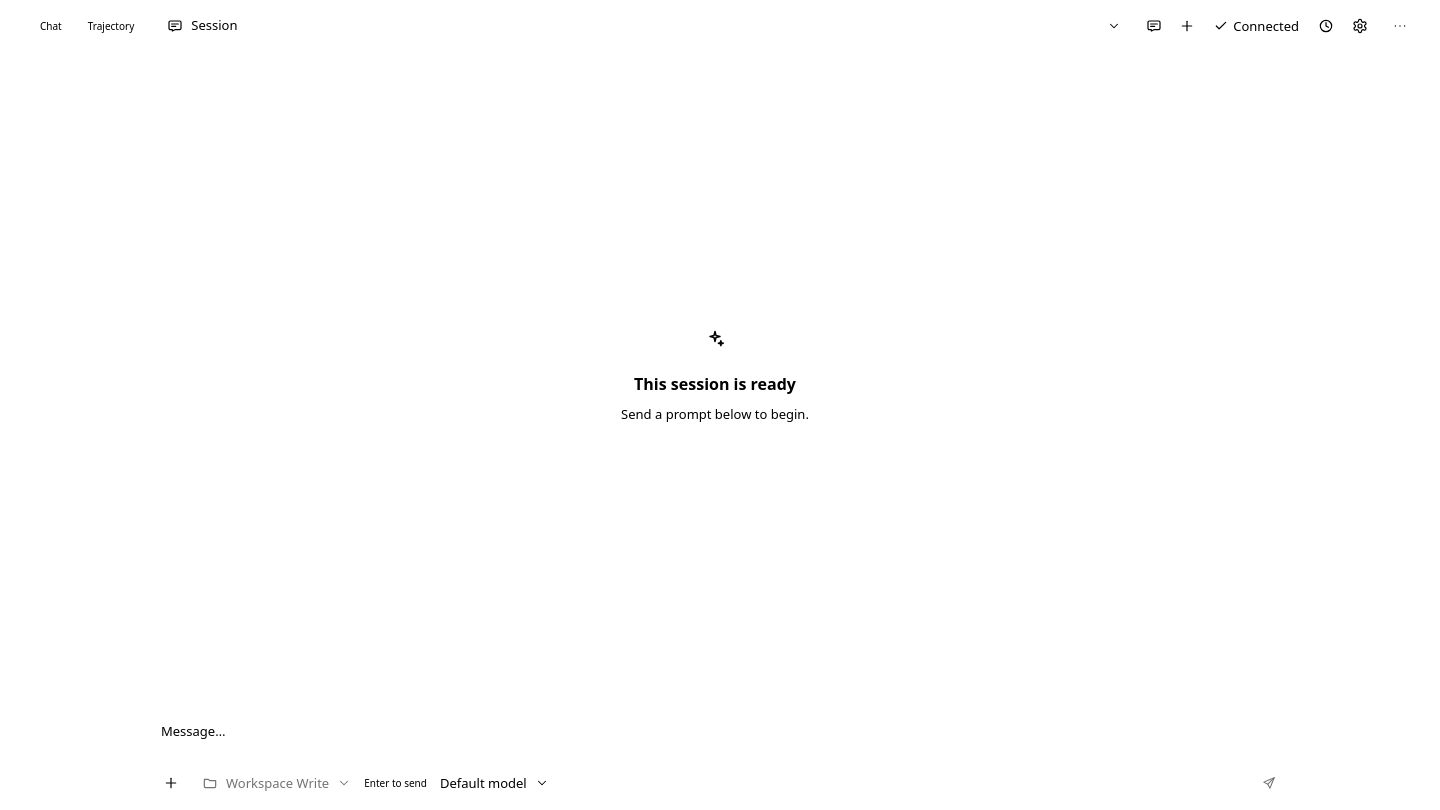
Test: App connected rendering › applies the selected interface language across the conversation and export surfaces
Click the button named "Conversation tools". click: (1400, 26)
box: x1=1384 y1=10 x2=1416 y2=42
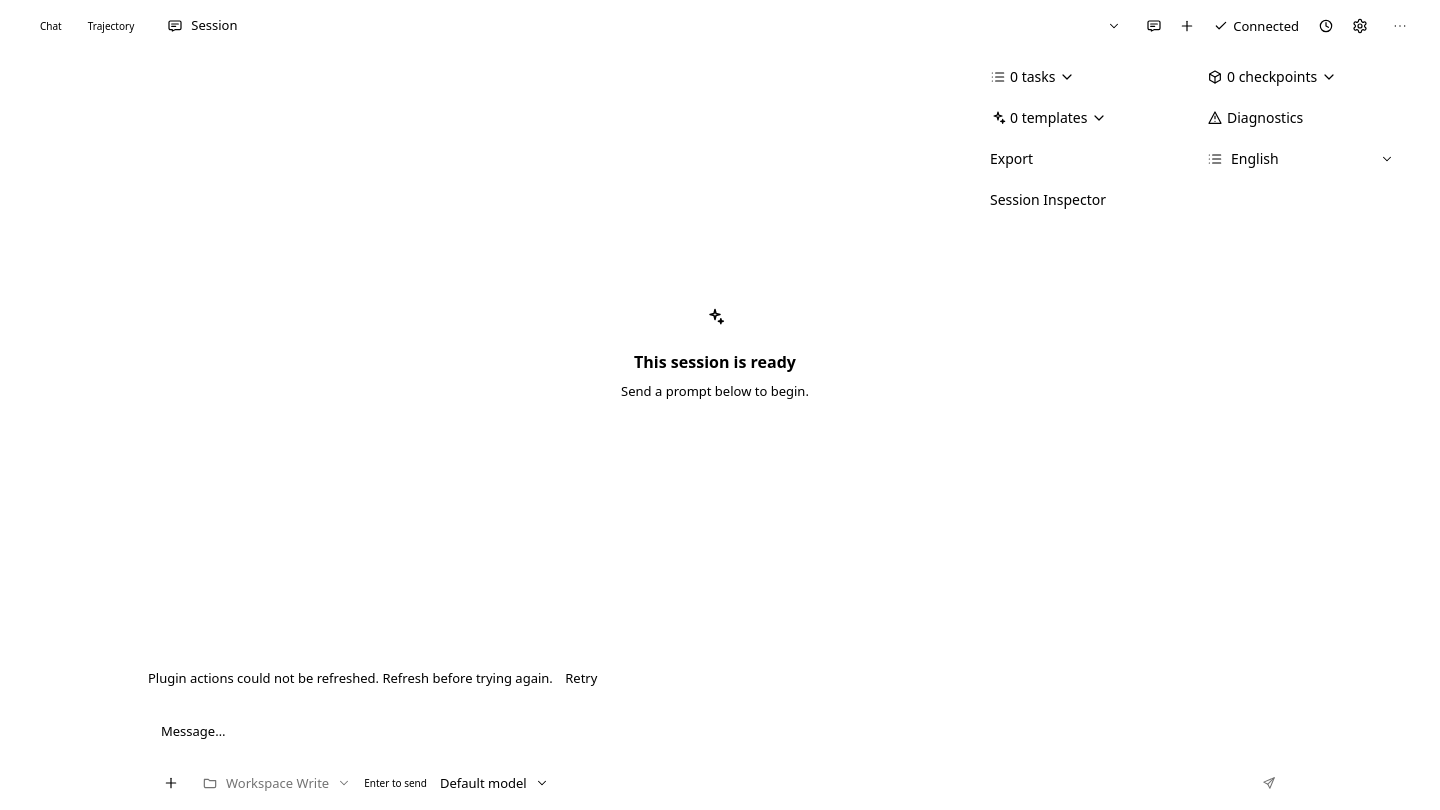
Click the button with aria-label "Interface language:". click: (1300, 159)
box: x1=1194 y1=141 x2=1407 y2=178
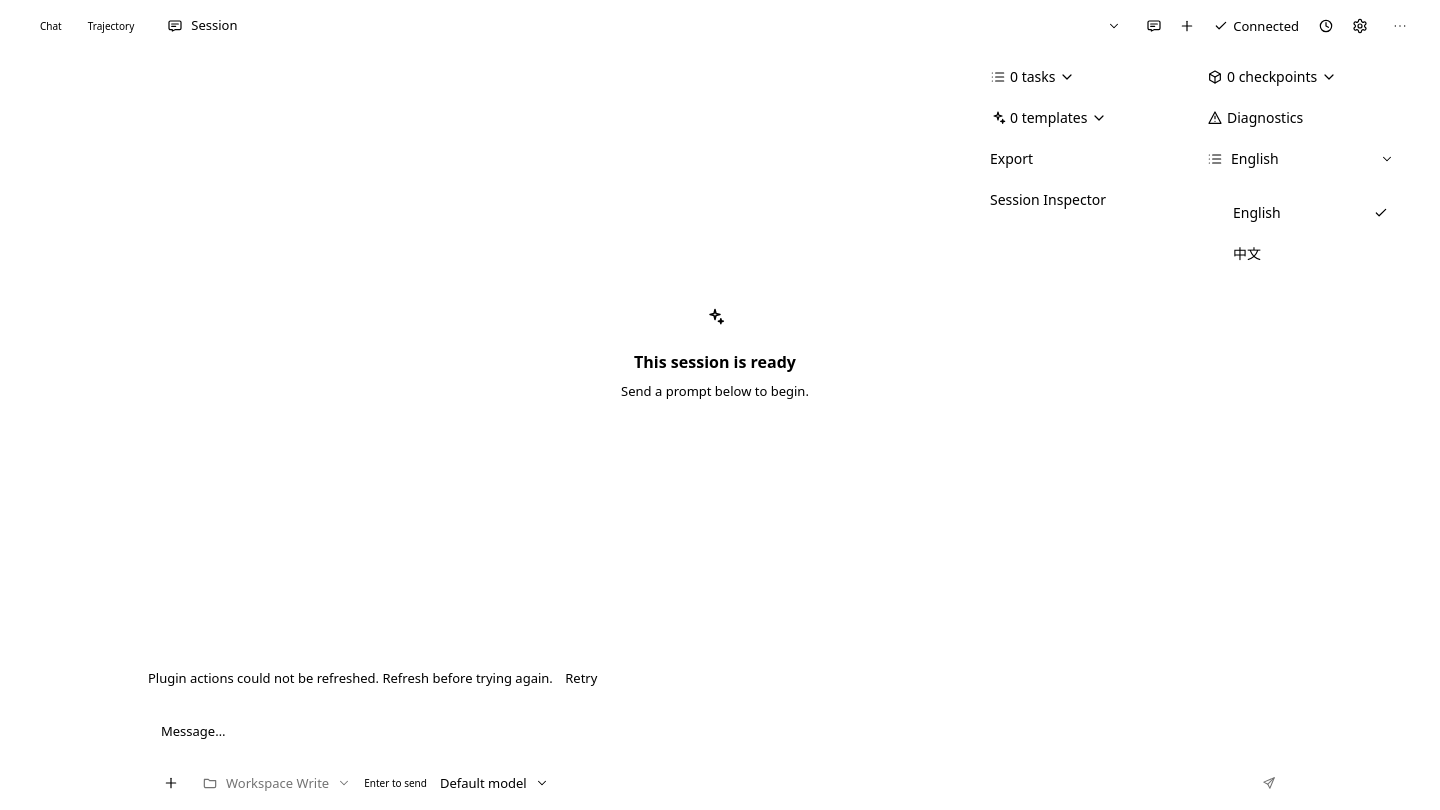
Click the option "中文". click: (1311, 254)
box: x1=1224 y1=236 x2=1398 y2=272
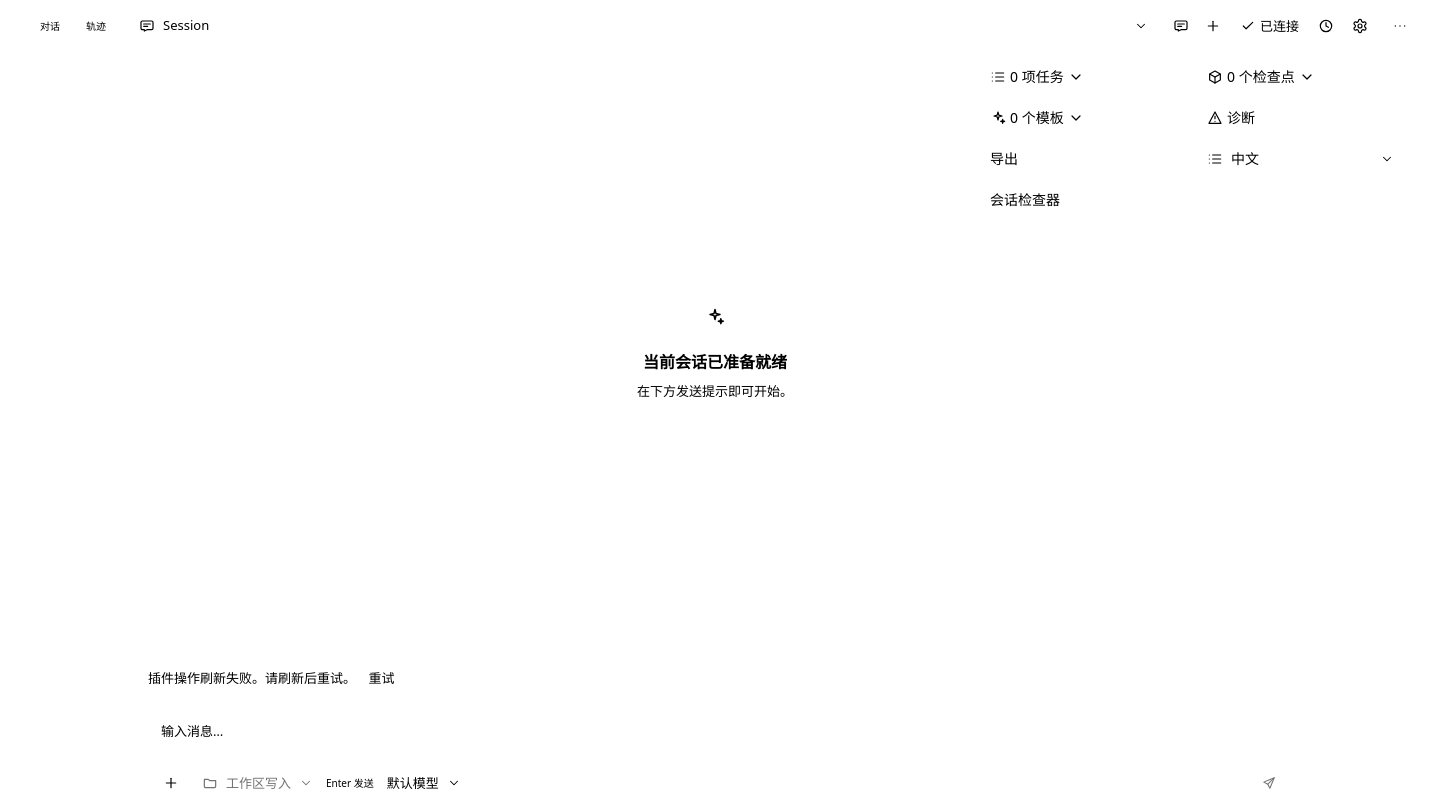
Expected: the button named "发送消息" is shown, x1=1251 y1=765 x2=1287 y2=801
Now the header named "对话" is shown, box x1=1165 y1=10 x2=1376 y2=42
Now the text box with placeholder "输入消息…" is shown, box x1=153 y1=714 x2=1287 y2=756
Click the button "导出". click: (1084, 159)
box: x1=977 y1=141 x2=1190 y2=178
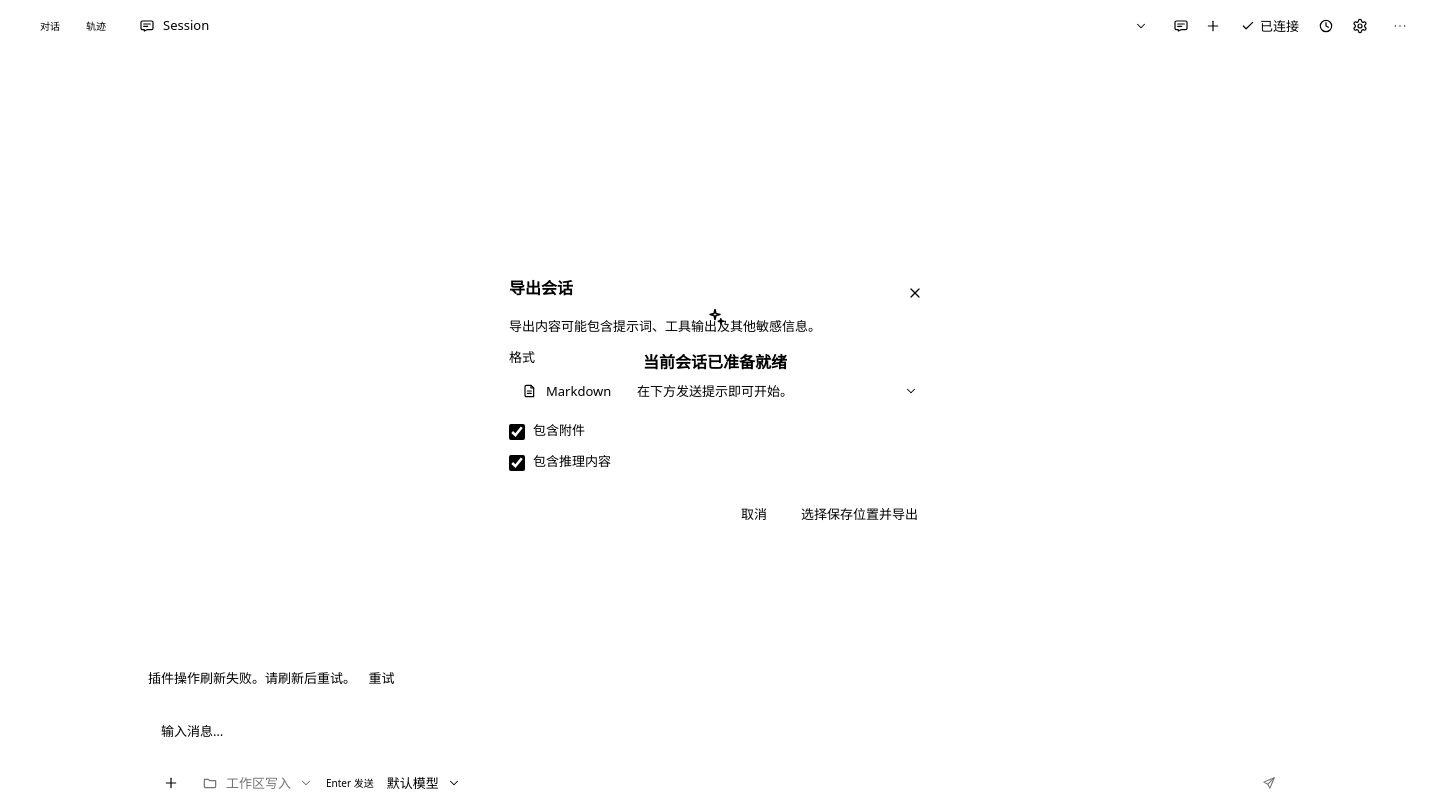
Now the heading "导出会话" is shown, box x1=509 y1=277 x2=573 y2=300
Now the text "包含附件" is shown, box x1=509 y1=421 x2=585 y2=440
Now the button "选择保存位置并导出" is shown, box x1=788 y1=496 x2=931 y2=533
